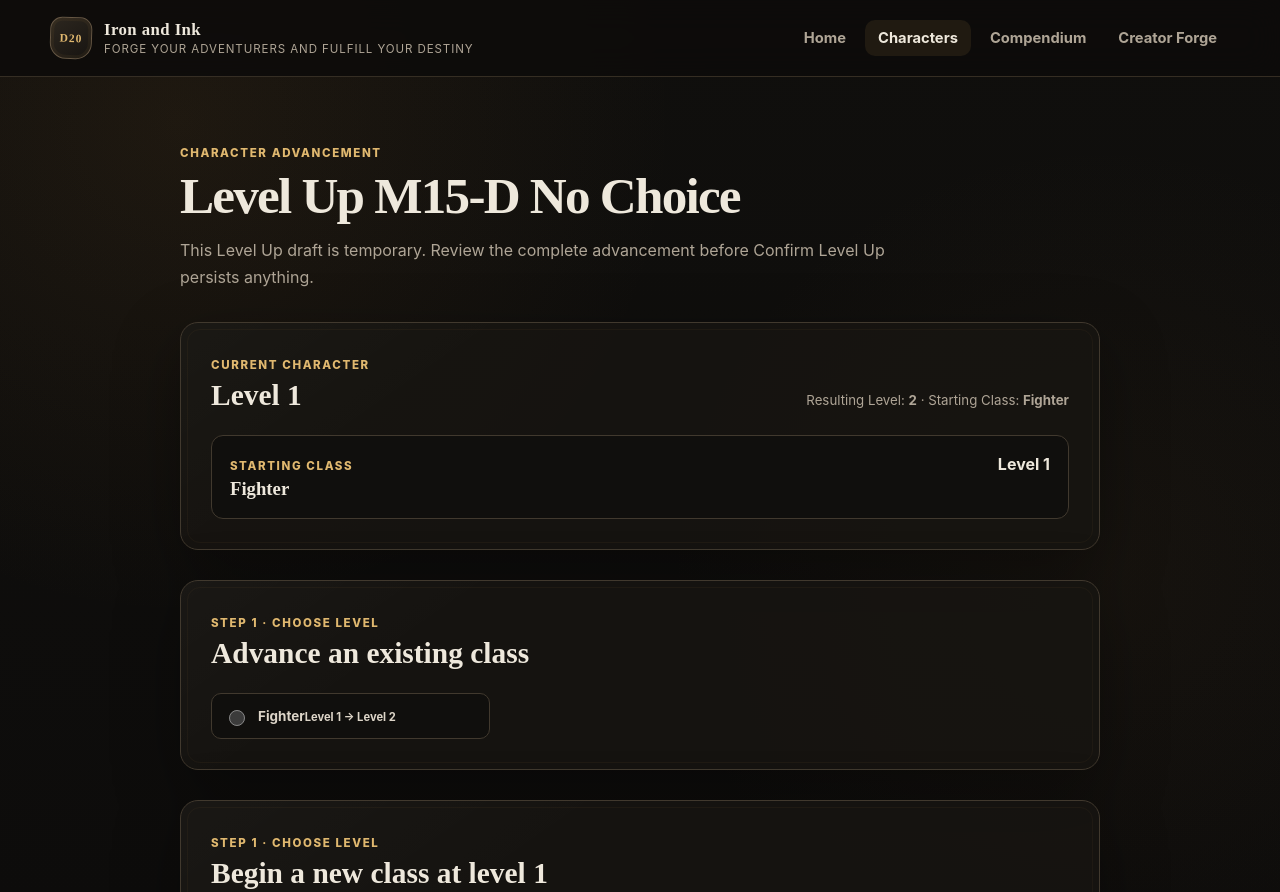
Test case: Milestone 15-D Advancement Choices Level Up flow › A skips an empty Advancement Choices step when the gained owner level has no M15-D requirement
This screenshot has width=1280, height=892.
Click the radio button labelled "FighterLevel 1 → Level 2". click: (237, 718)
box: [229, 710, 245, 726]
(page scrolled)
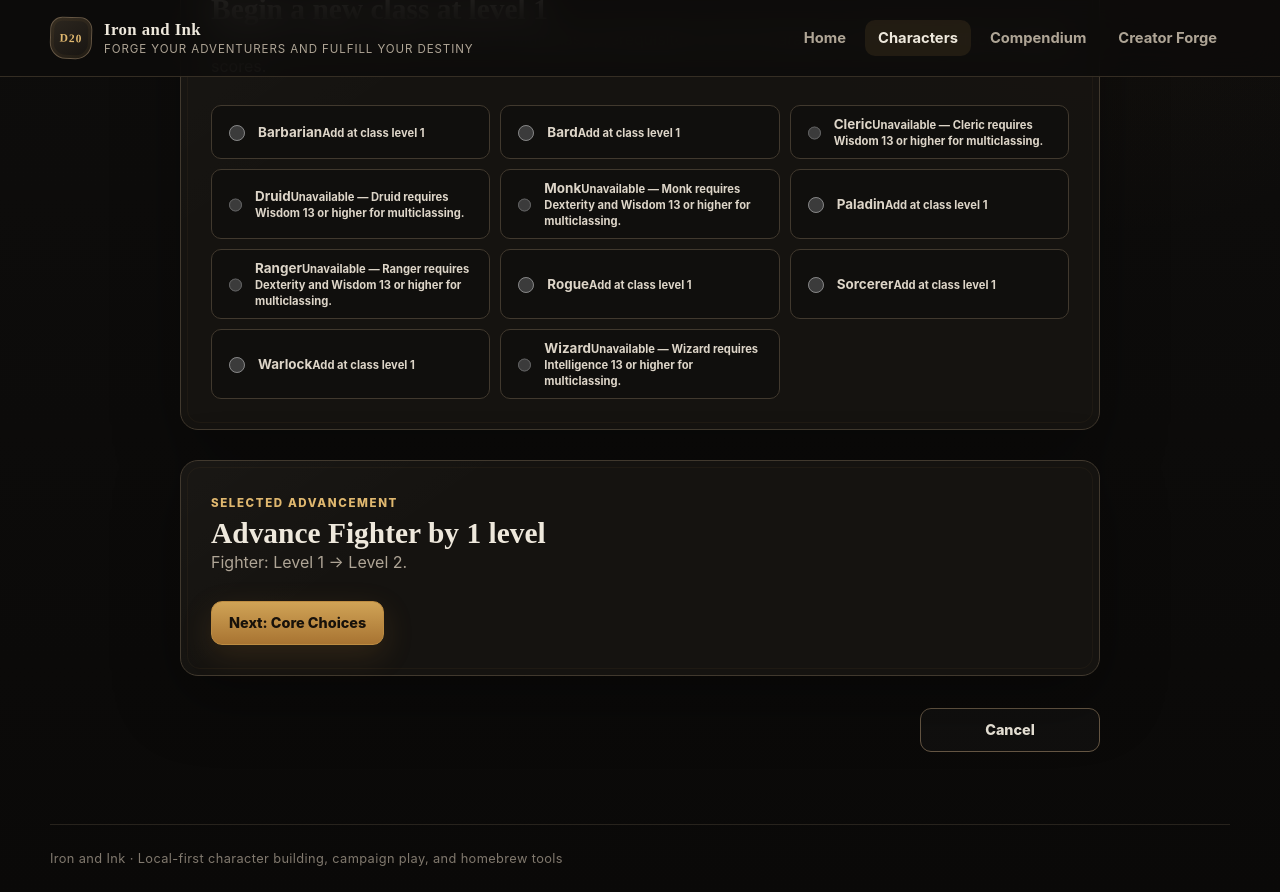
Click the button "Next: Core Choices". click: (298, 623)
box: [211, 601, 384, 645]
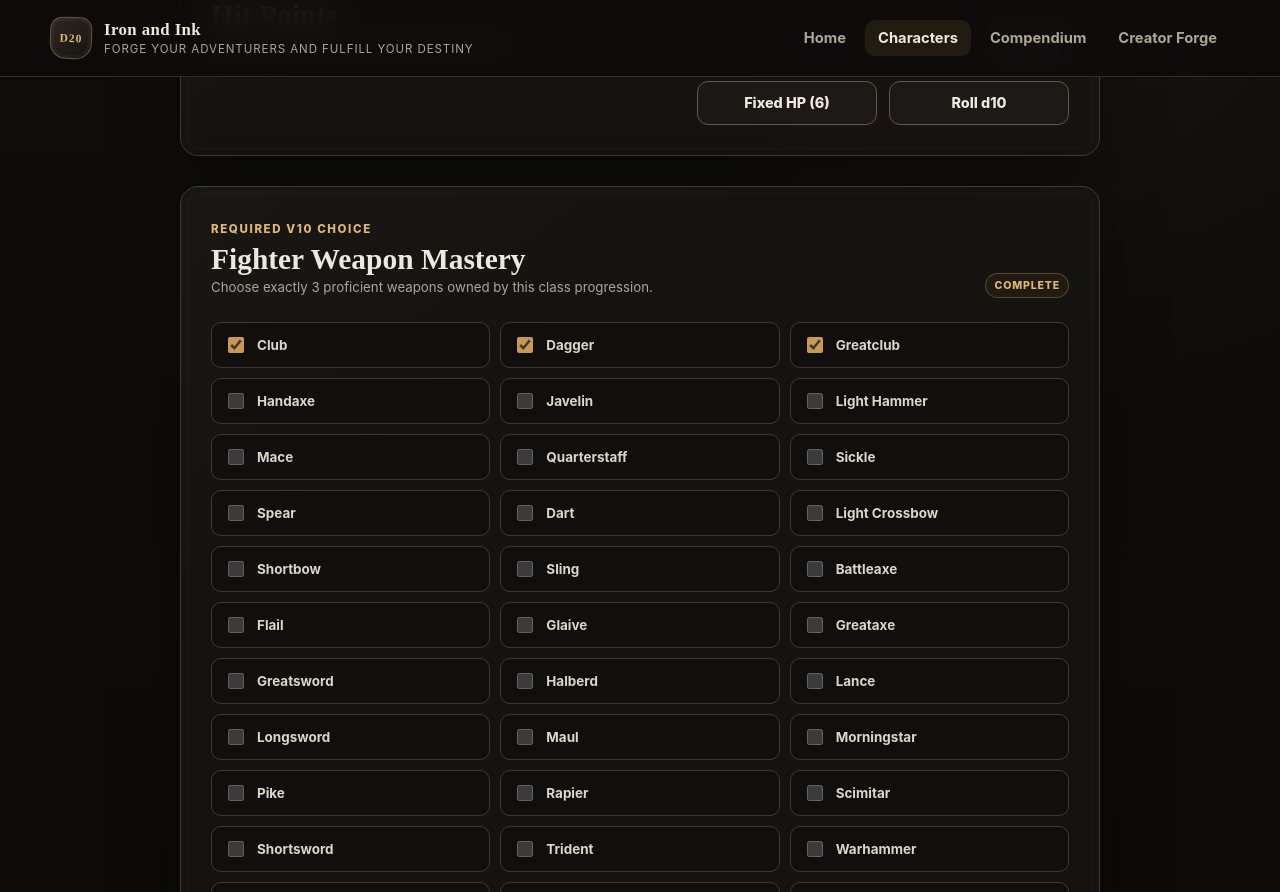
Click the button "Fixed HP (6)". click: (787, 103)
box: [697, 81, 877, 125]
(page scrolled)
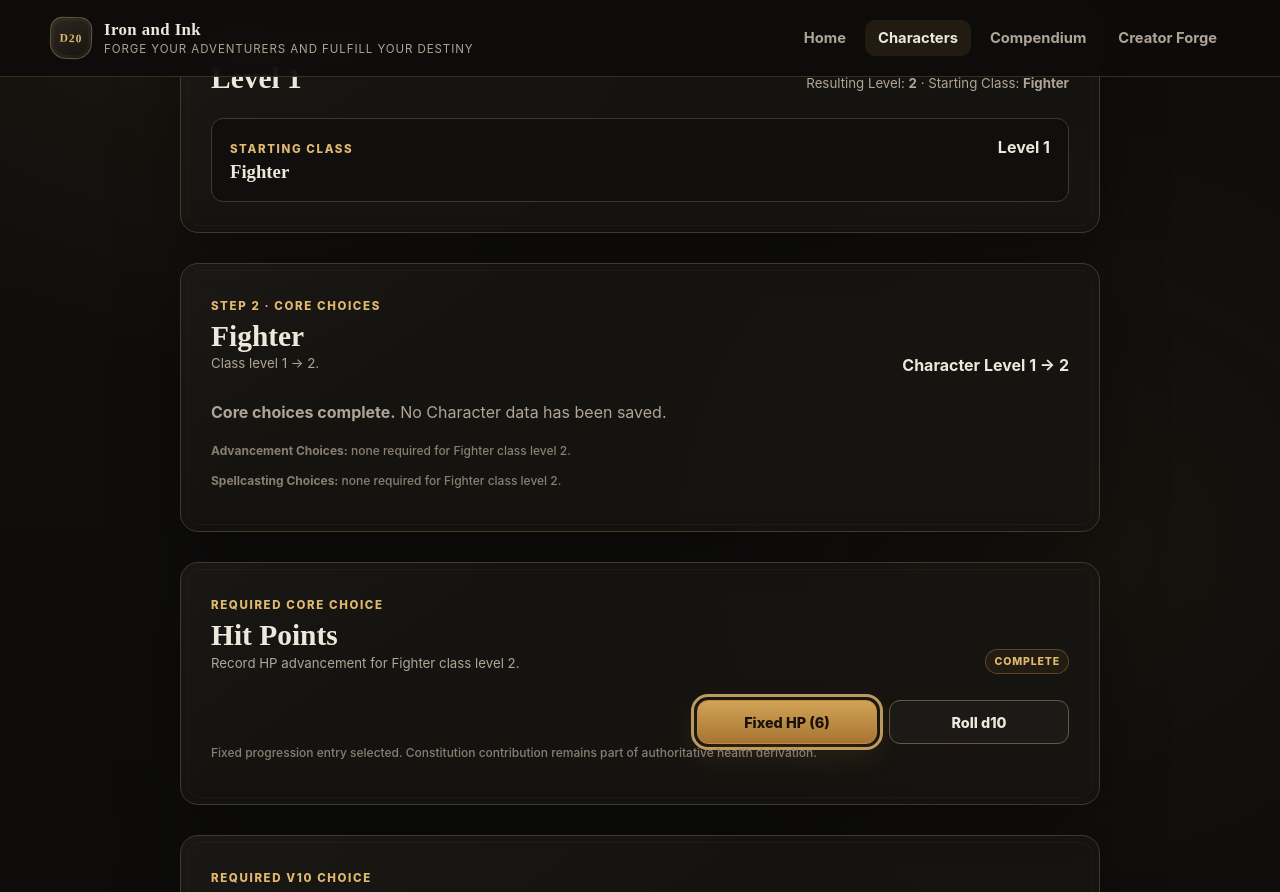
Result: the message shows "Core choices complete." at [211, 402, 396, 422]
Result: the text "Advancement Choices:" shows "none required for Fighter class level 2" at [211, 443, 571, 458]
